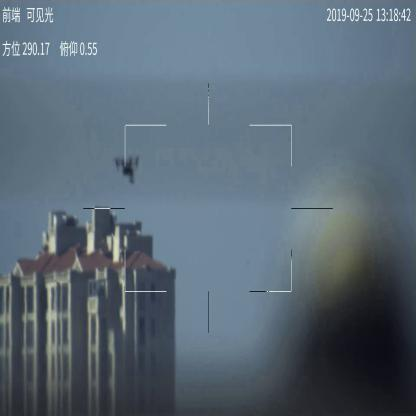uav: (112, 154, 139, 184)
